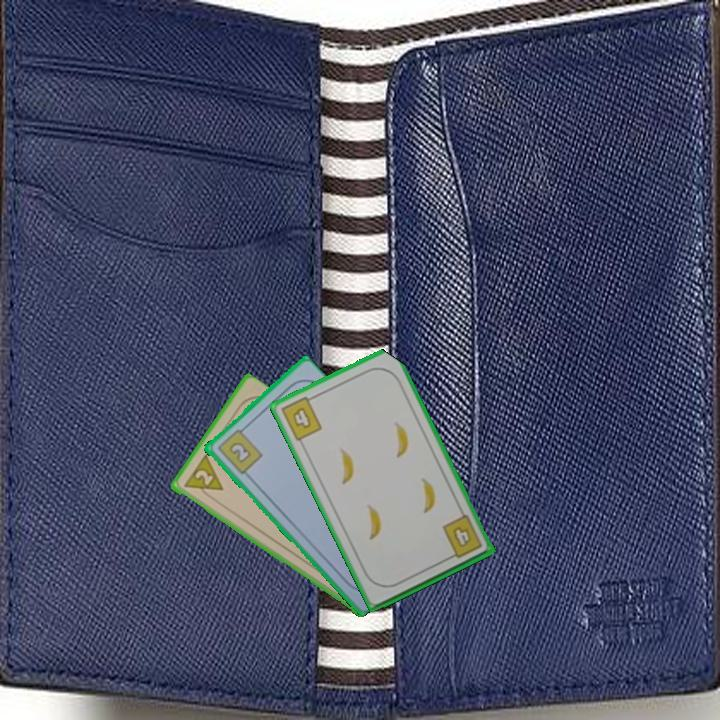2b: (213, 423, 265, 477)
2p: (180, 452, 226, 503)
4b: (277, 392, 325, 444), (438, 511, 485, 562)
